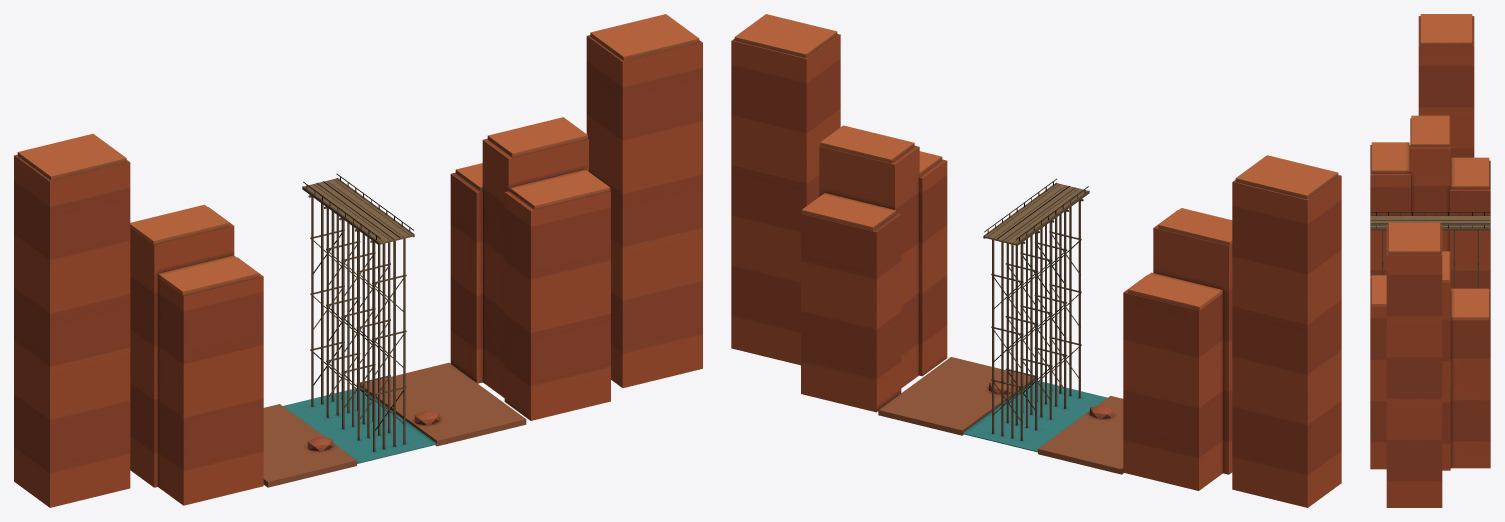
File: canon_puente.glb
The picture shows the model from 3 angles, left to right: view 1: azimuth 30°, elevation 25°; view 2: azimuth 150°, elevation 25°; view 3: azimuth 270°, elevation 25°; orthographic projection. The views are drawn at different scales.
Parts seen in each view (by area): view 1: canon_puente; view 2: canon_puente; view 3: canon_puente.
Part boxes in pixels (x1,y1,x2,y2): canon_puente: [14, 14, 702, 507]; canon_puente: [731, 14, 1341, 507]; canon_puente: [1370, 14, 1490, 507].
Size of the model in its own units: 142 by 71.4 by 30.2.
Materials: 1 (1 with a texture image).
